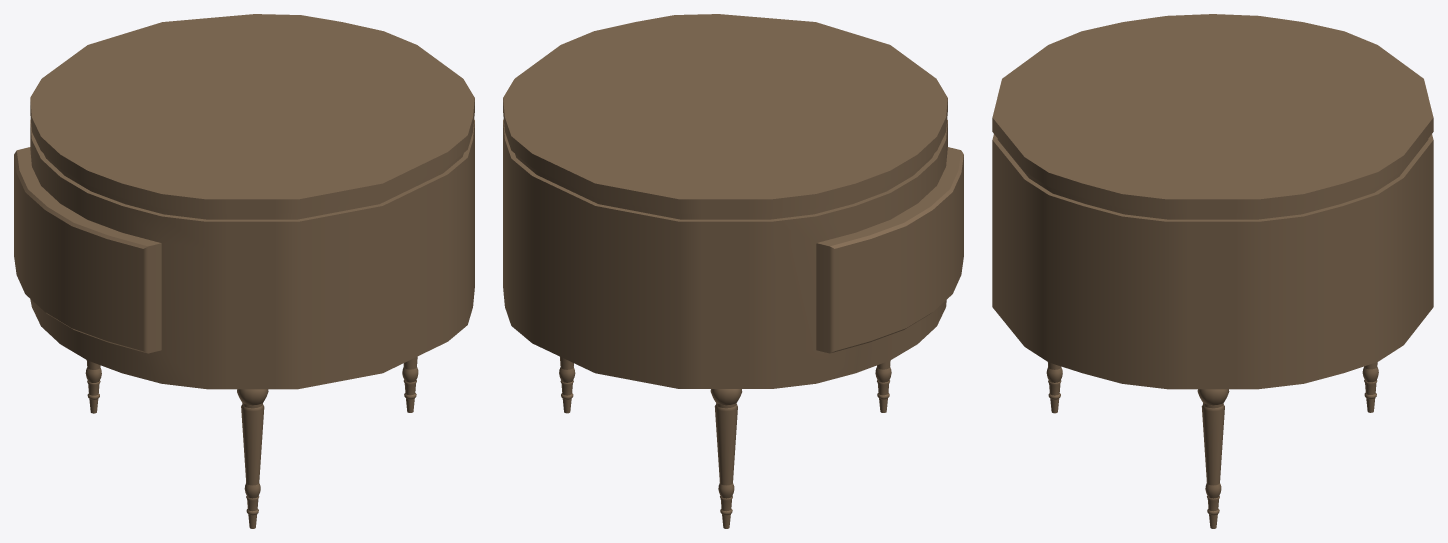
Rendered from misk_endTable.fbx.
3 views of the same model, side by side, from view 1: azimuth 30°, elevation 25°; view 2: azimuth 150°, elevation 25°; view 3: azimuth 270°, elevation 25° (orthographic).
Parts seen in each view (by area): view 1: endtable_mesh; view 2: endtable_mesh; view 3: endtable_mesh.
Part boxes in pixels (x1,y1,x2,y2): endtable_mesh: [14, 14, 474, 528]; endtable_mesh: [503, 14, 963, 528]; endtable_mesh: [992, 14, 1433, 528].
Size of the model in its own units: 0.7201 by 0.5968 by 0.696.
